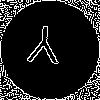Y: (25, 25, 62, 73)
